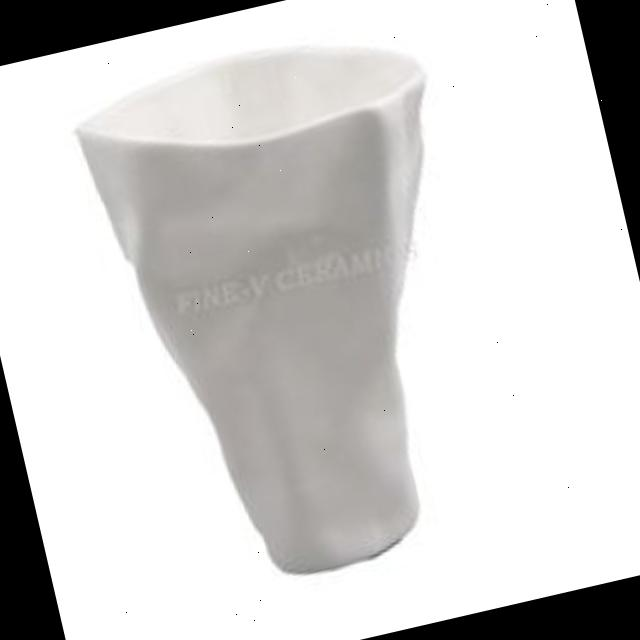trash: (61, 9, 528, 604)
